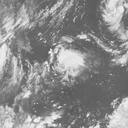cyclone: (56, 48, 86, 78)
